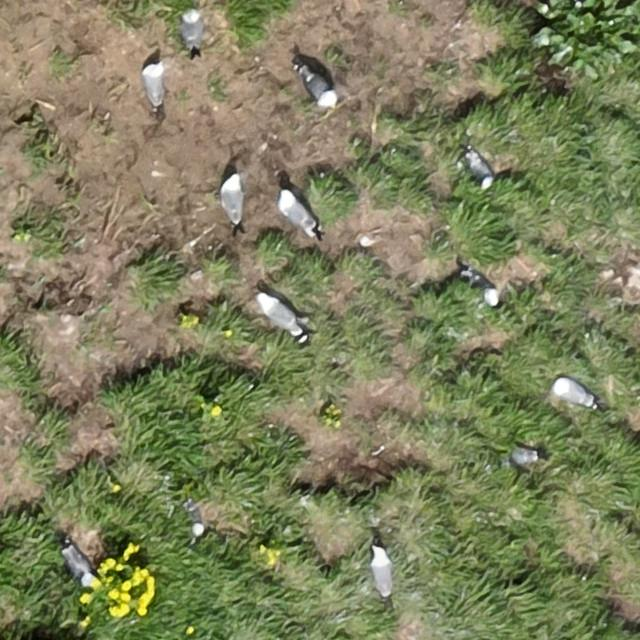umineko: (262, 296, 297, 330), (282, 194, 314, 230), (302, 71, 333, 105), (65, 546, 92, 582), (222, 177, 242, 221), (556, 382, 592, 406), (372, 555, 392, 596), (145, 66, 165, 106), (183, 11, 203, 47), (474, 276, 498, 306), (470, 154, 492, 184), (189, 504, 205, 536), (510, 449, 535, 465)
